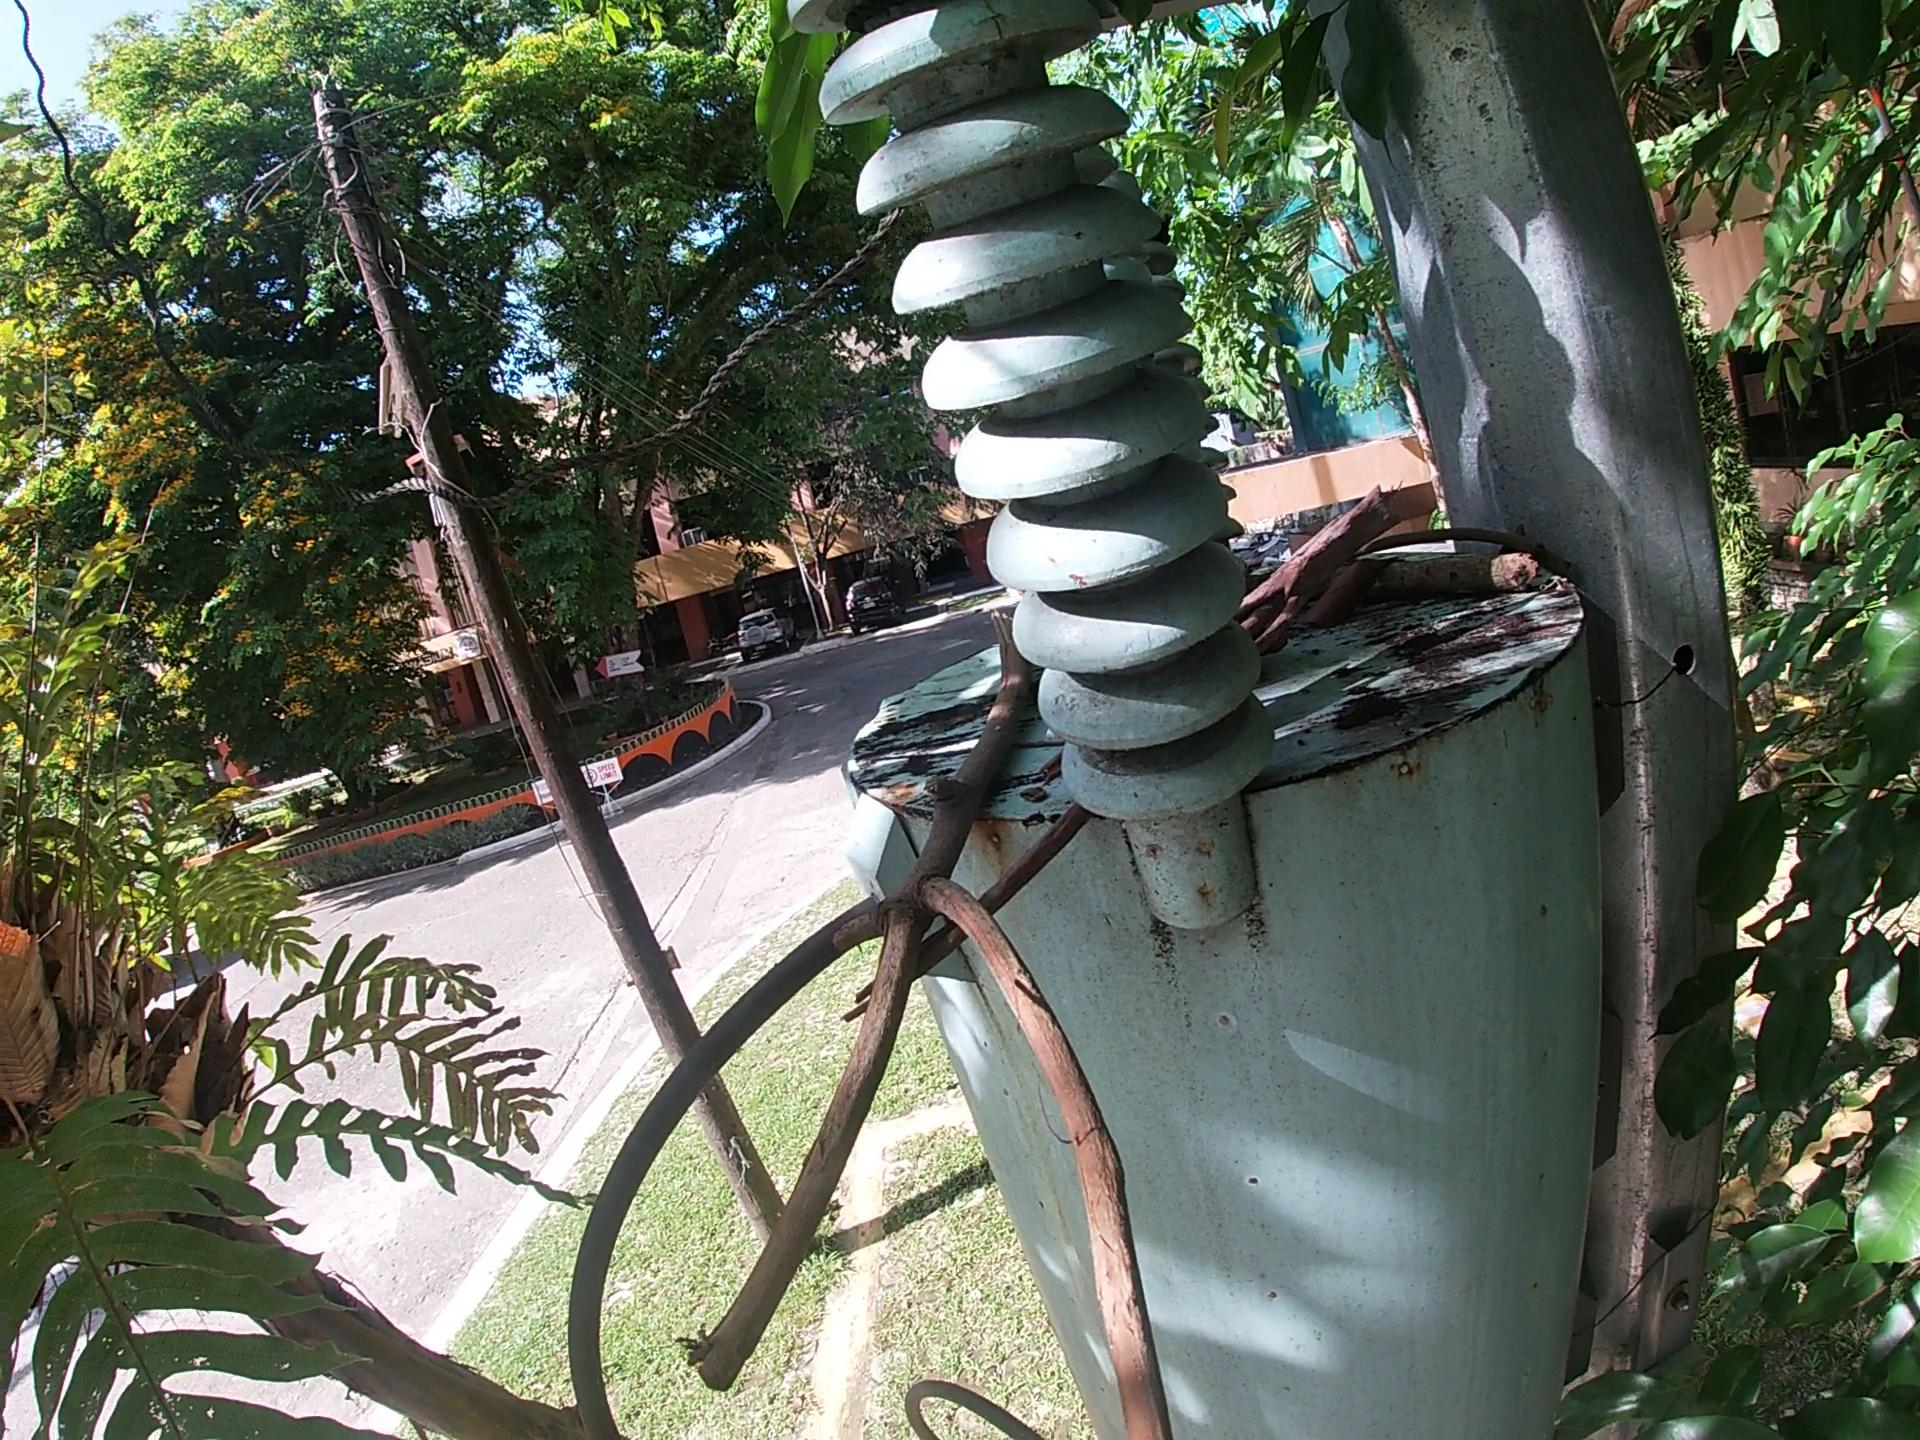leaf: (1311, 563, 1395, 617)
tree branch: (633, 611, 1223, 1440), (841, 818, 1120, 1013), (1234, 483, 1441, 644), (1358, 546, 1544, 616), (1368, 517, 1538, 561), (1013, 740, 1076, 761)
